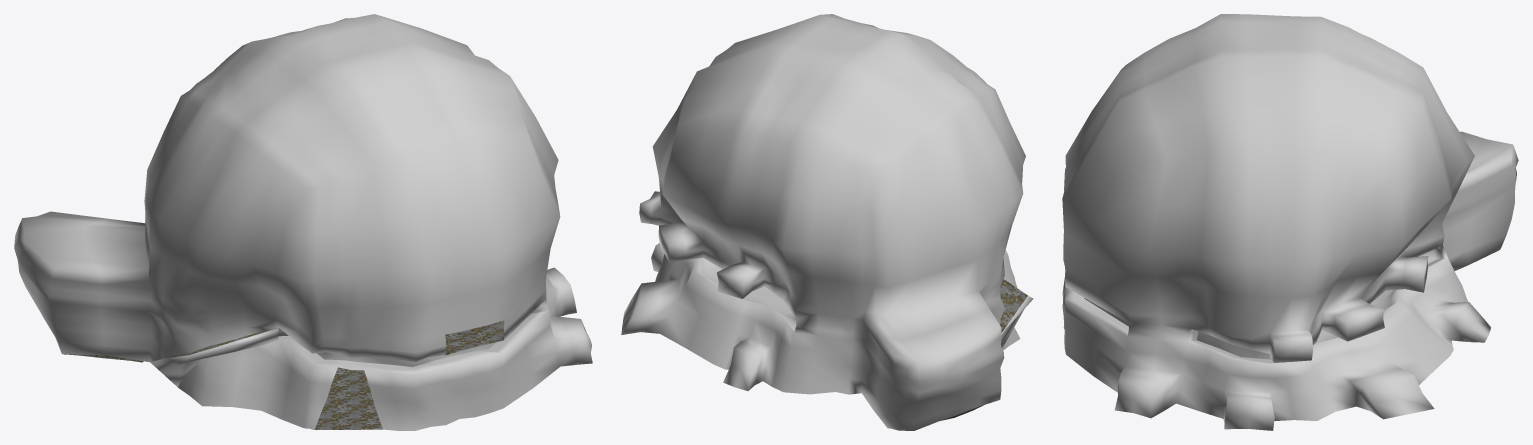
File: Flooded Room.fbx
The picture shows the model from 3 angles, left to right: view 1: azimuth 30°, elevation 25°; view 2: azimuth 150°, elevation 25°; view 3: azimuth 270°, elevation 25°; orthographic projection. The views are drawn at different scales.
Visible parts, largest first — view 1: Roundcube.001; view 2: Roundcube.001; view 3: Roundcube.001.
Part boxes in pixels (x1,y1,x2,y2): Roundcube.001: [14, 14, 592, 430]; Roundcube.001: [621, 14, 1033, 430]; Roundcube.001: [1062, 14, 1518, 430].
Size of the model in its own units: 26567 by 17762 by 23649.
